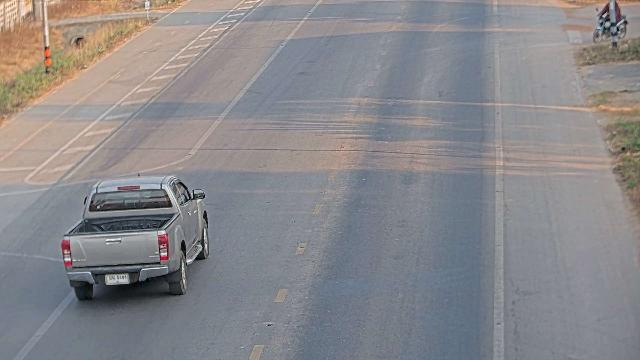pickup-truck: (60, 172, 210, 301)
